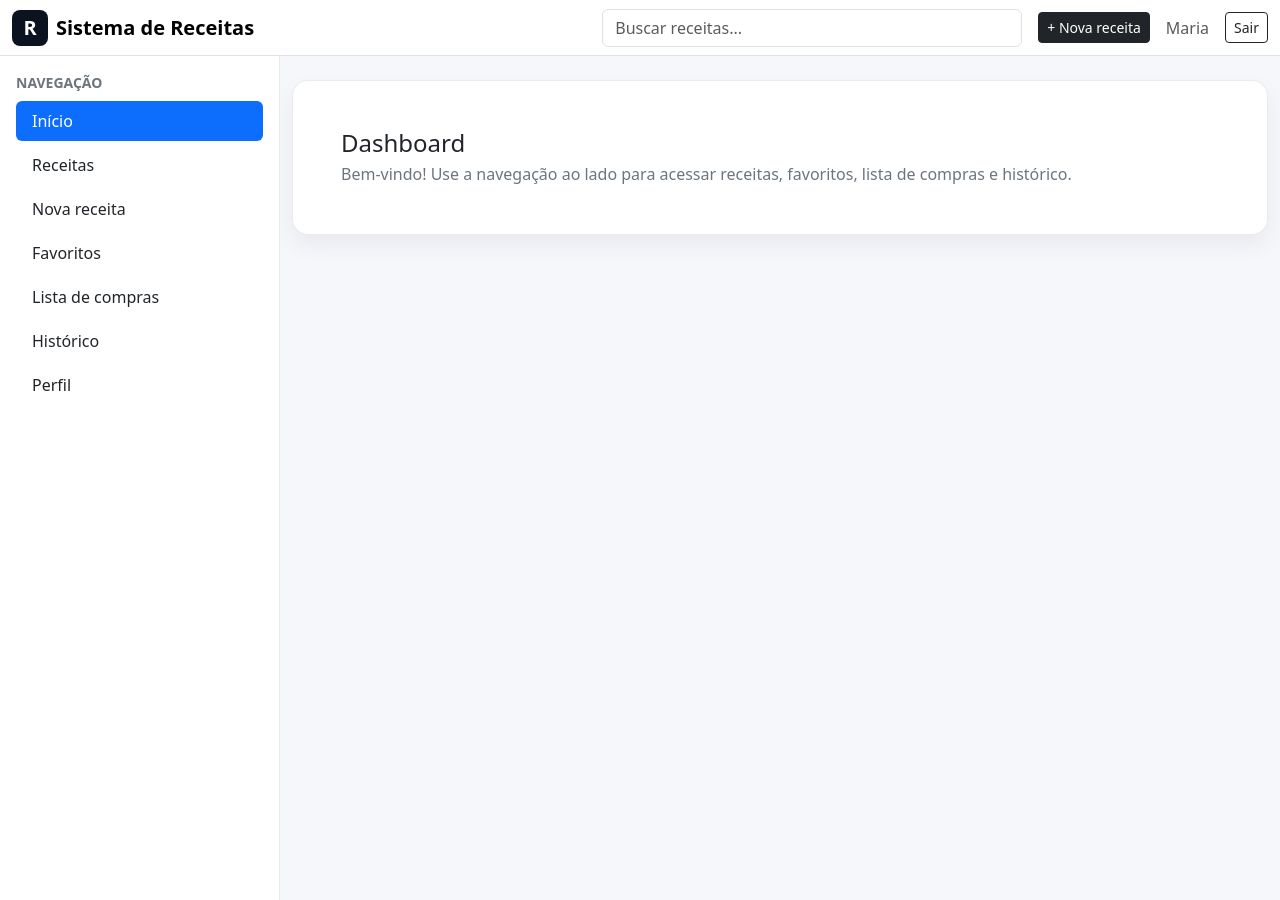
Test: routing/auth › logout returns to /login
Click the button "Sair": click(1247, 28) [1225,12,1268,43]
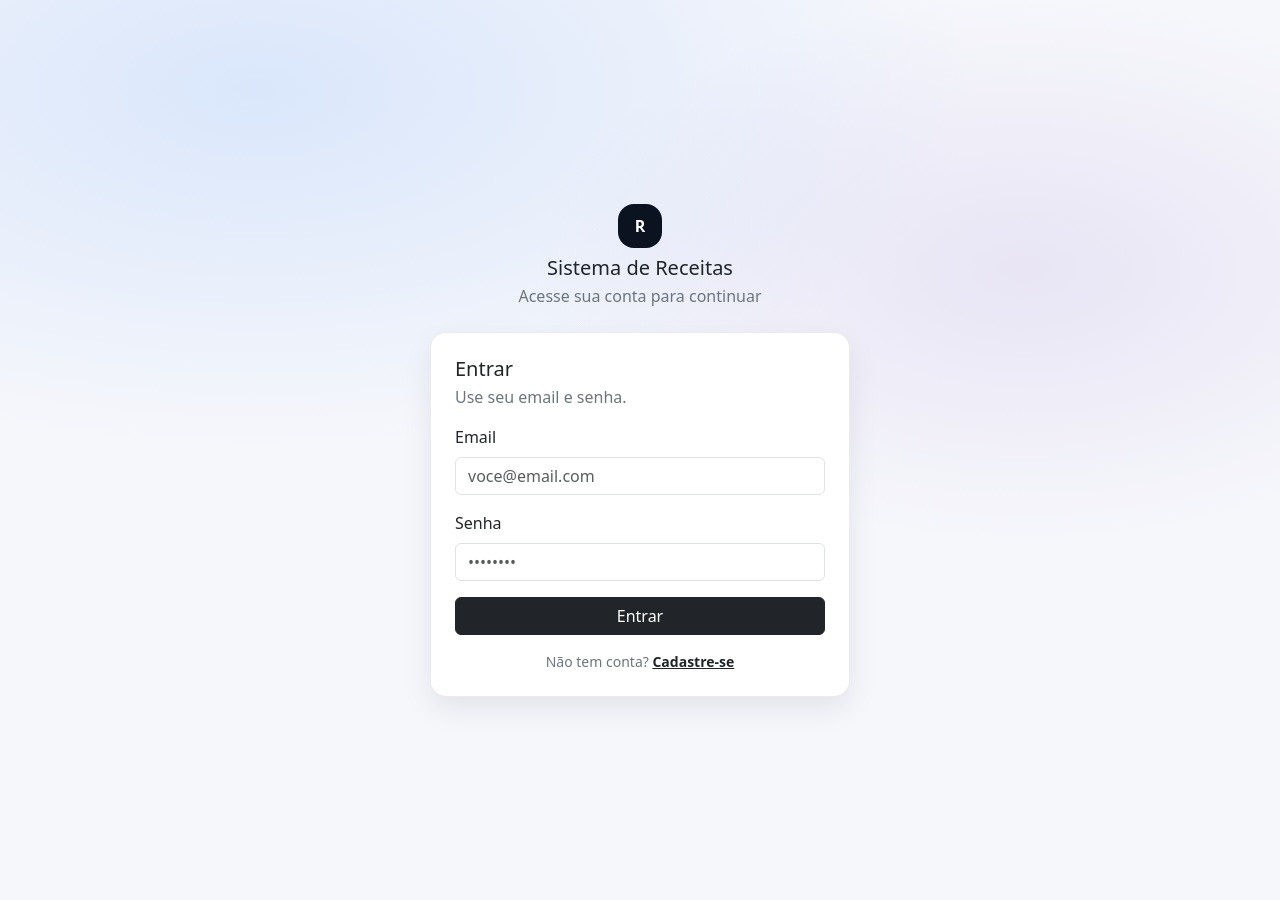
Result: the heading "Entrar" is shown at [455,354,513,382]
